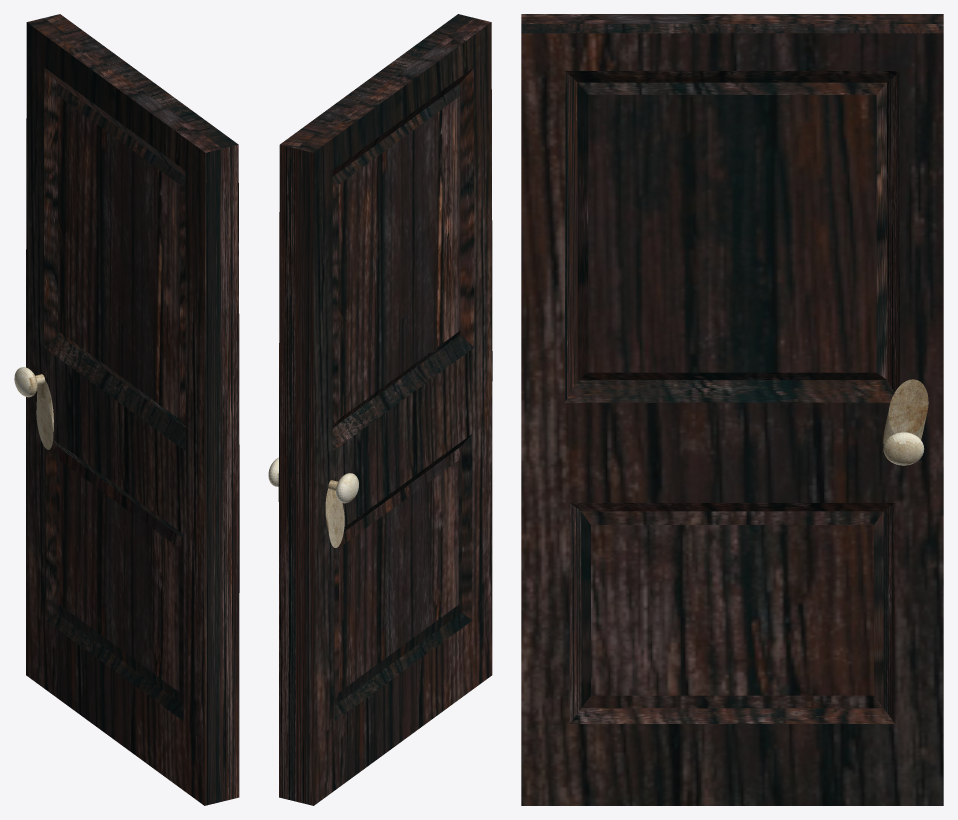
Rendered from door3.glb.
3 views of the same model, side by side, from view 1: azimuth 30°, elevation 25°; view 2: azimuth 150°, elevation 25°; view 3: azimuth 270°, elevation 25° (orthographic). The views are drawn at different scales.
Visible parts, largest first — view 1: door2, door, Cylinder.005, Sphere.002; view 2: door2, door, Cylinder.005, Sphere.002; view 3: door, door2, Cylinder.004, Sphere.001.
Boxes of the visible parts, x1,y1,x2,y2 form: door2: (26, 18, 221, 805); door: (44, 14, 239, 801); Cylinder.005: (36, 380, 53, 449); Sphere.002: (14, 367, 37, 397); door2: (296, 18, 492, 805); door: (278, 14, 473, 801); Cylinder.005: (325, 488, 344, 547); Sphere.002: (336, 473, 358, 503); door: (521, 23, 943, 805); door2: (521, 14, 943, 23); Cylinder.004: (883, 379, 928, 445); Sphere.001: (883, 432, 924, 465).
Size of the model in its own units: 0.713 by 5.36 by 2.66.
7 materials, 7 textured.
